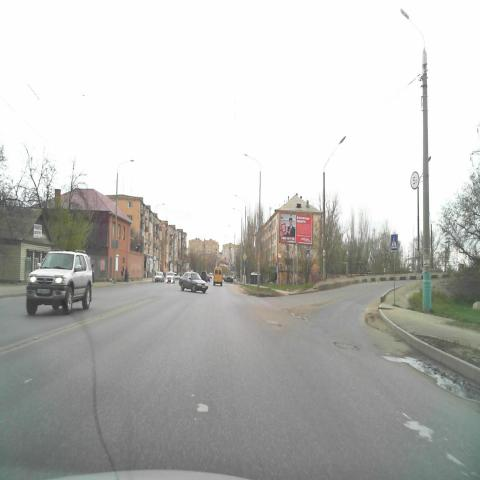3_11: (410, 170, 420, 190)
